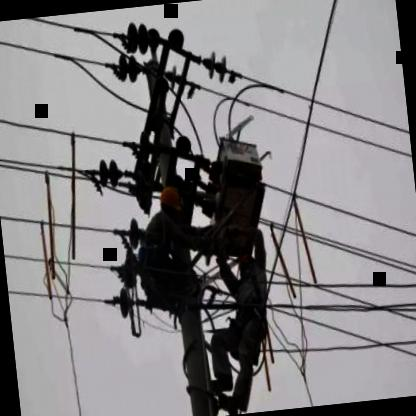helmet: (158, 180, 186, 216), (236, 249, 260, 276)
